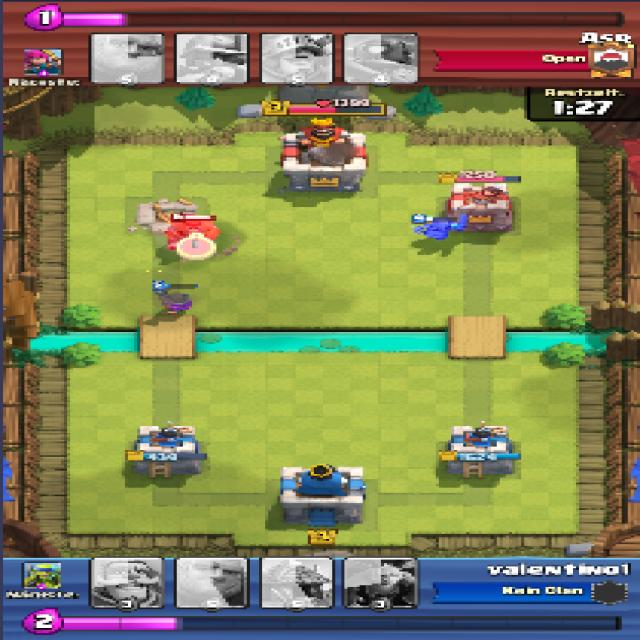Enemy-Hunter: (166, 218, 221, 248)
Player-MiniPEKKA: (411, 212, 468, 240)
Player-Musketeer: (153, 284, 192, 314)
